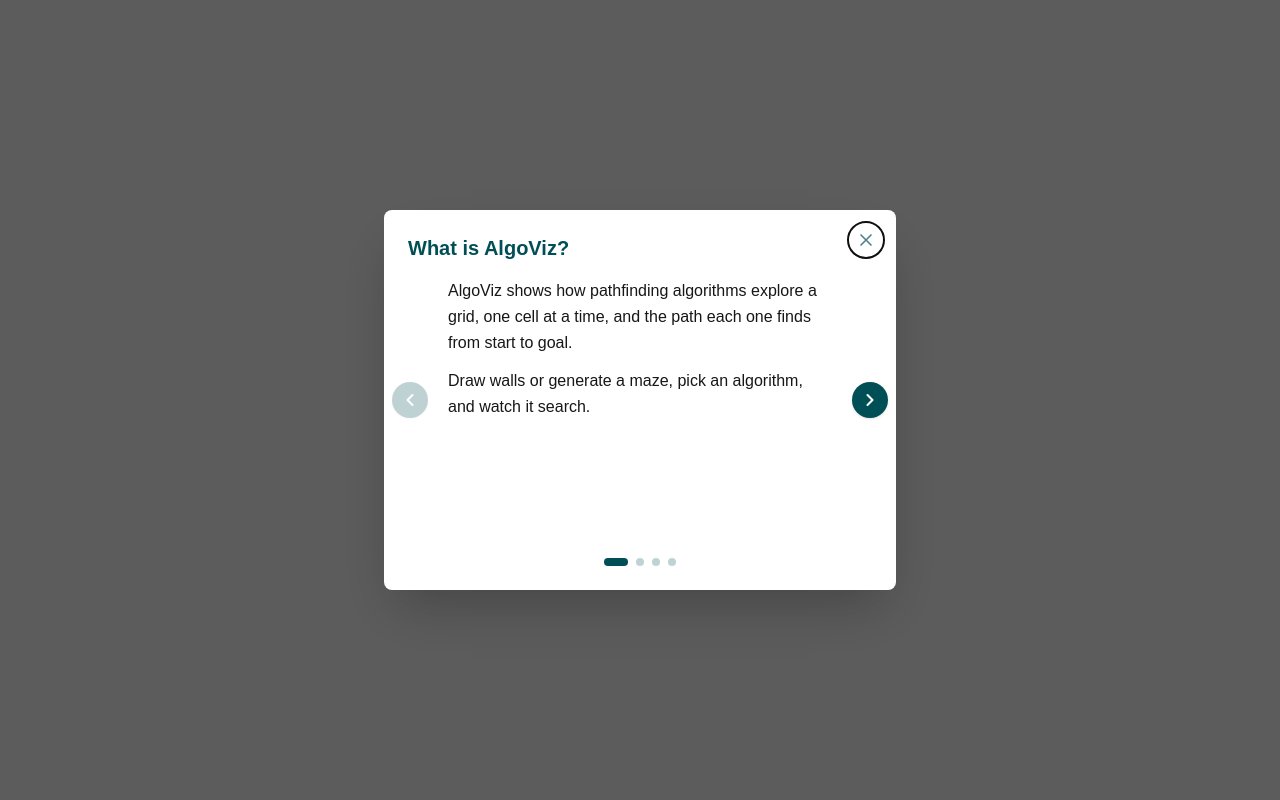
InfoModal › Next and Previous page through the slides, stopping at both ends
Click the button named "Next": x=870, y=400 852,382 -> 888,418
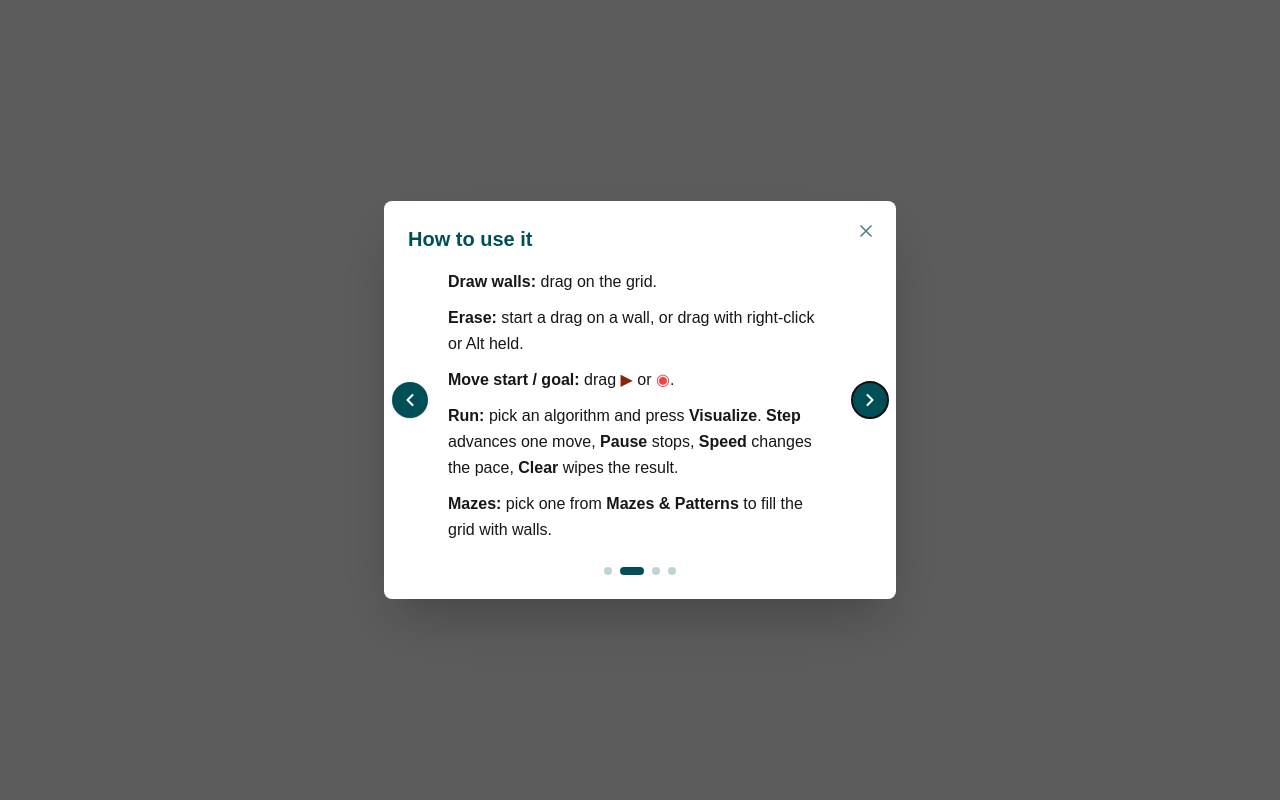
Click the button named "Next": x=870, y=400 852,382 -> 888,418
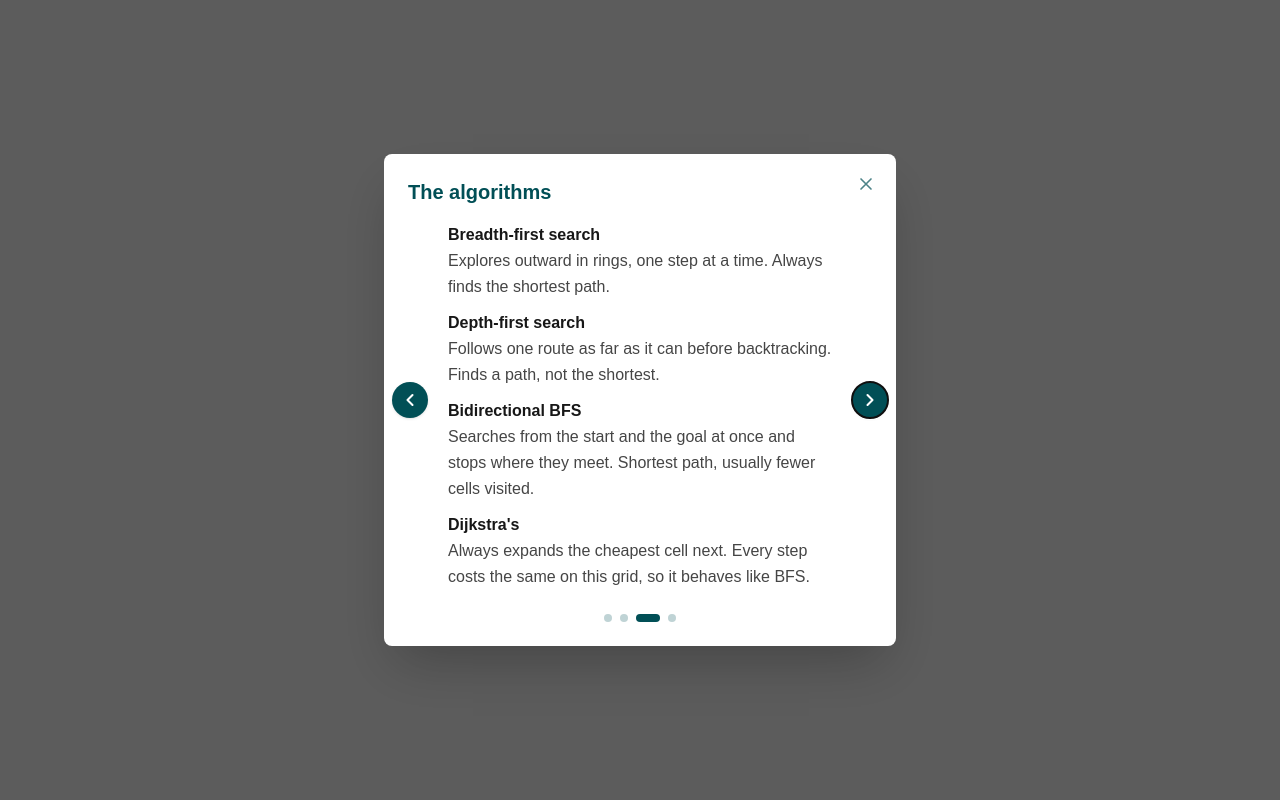
Click the button named "Next": x=870, y=400 852,382 -> 888,418
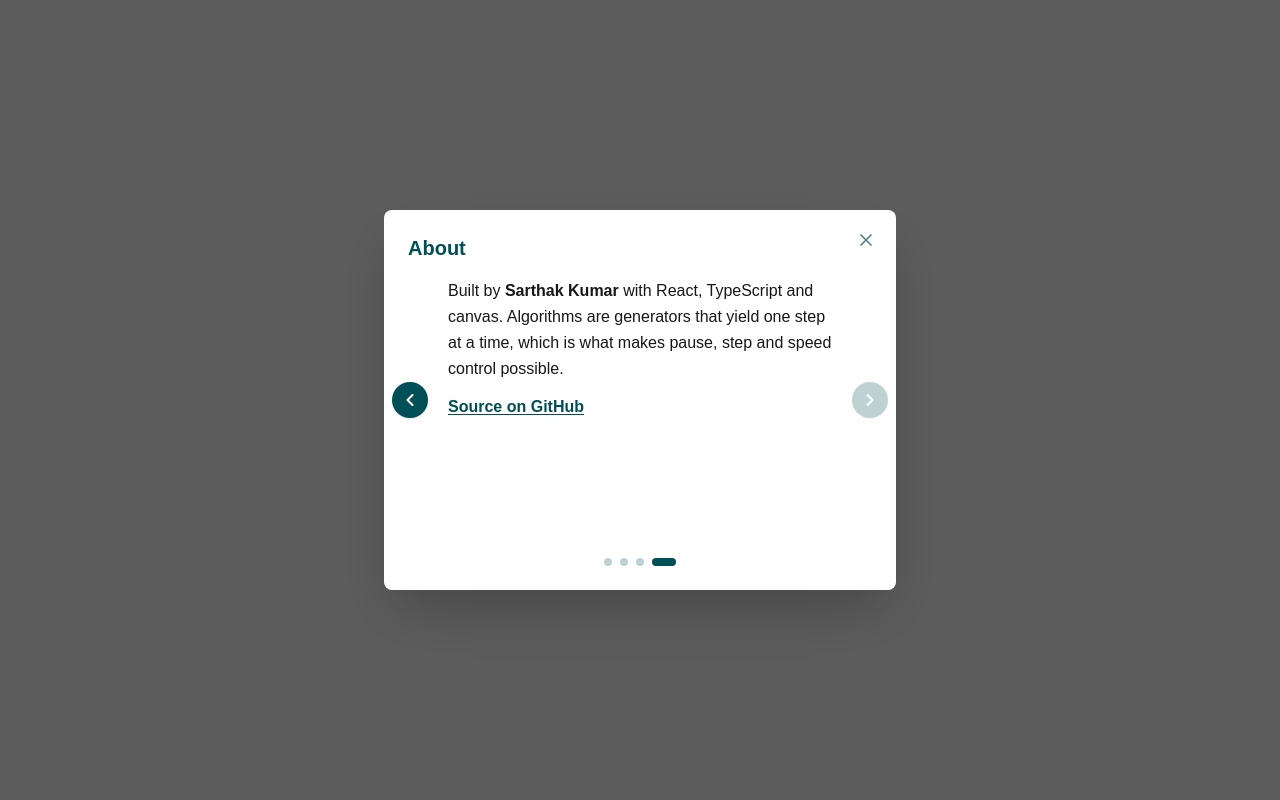
Now the button named "Next" is disabled, box 852,382 -> 888,418
Click the button named "Previous": x=410, y=400 392,382 -> 428,418
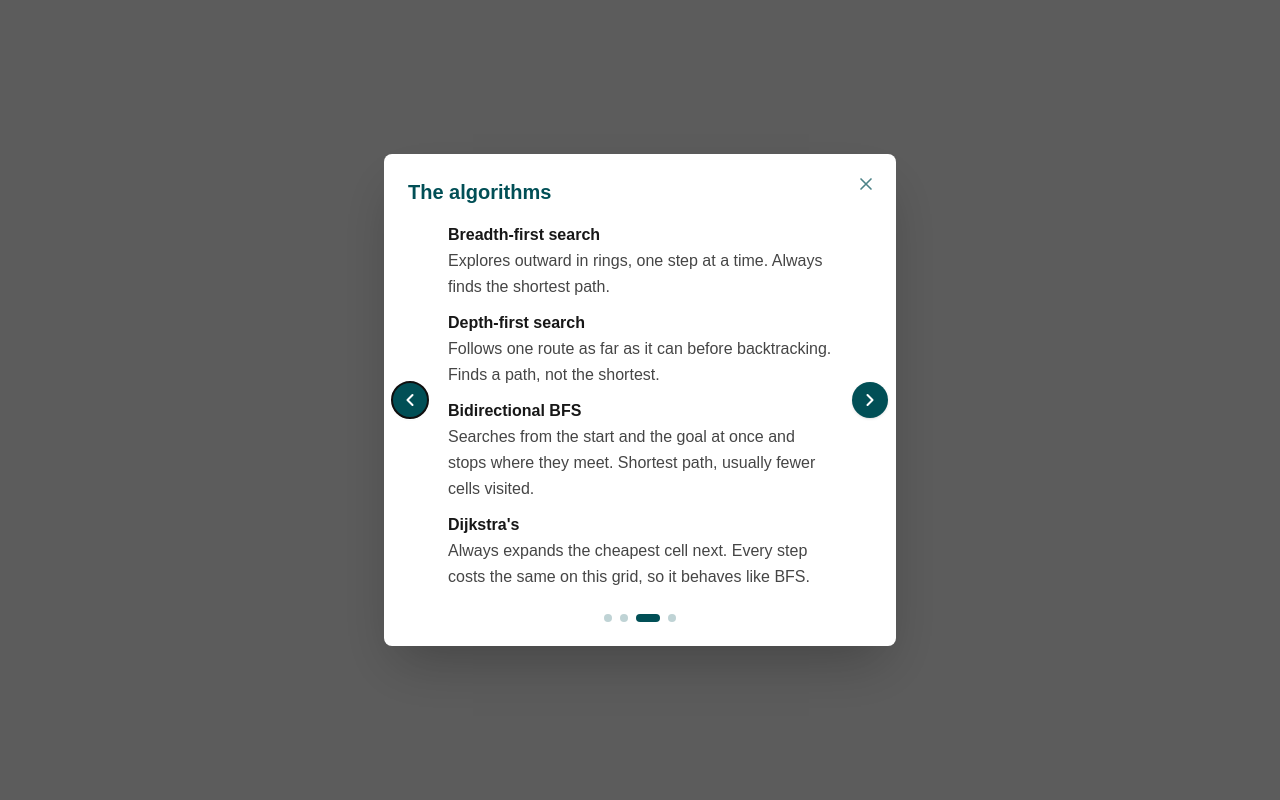
Now the heading reads "The algorithms", box 408,181 -> 551,203
